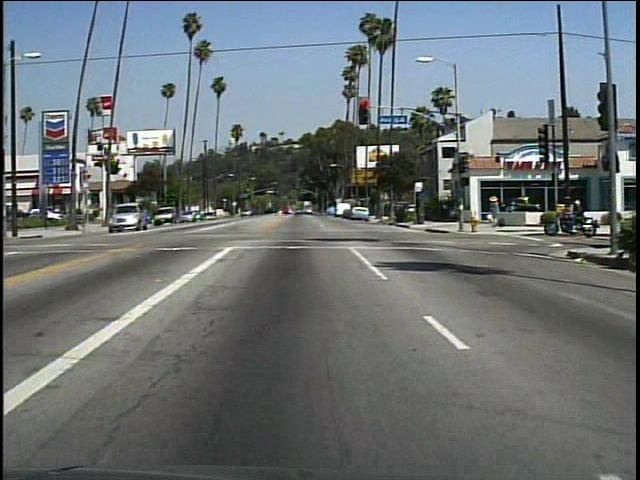person: (562, 194, 587, 238), (487, 191, 504, 228)
